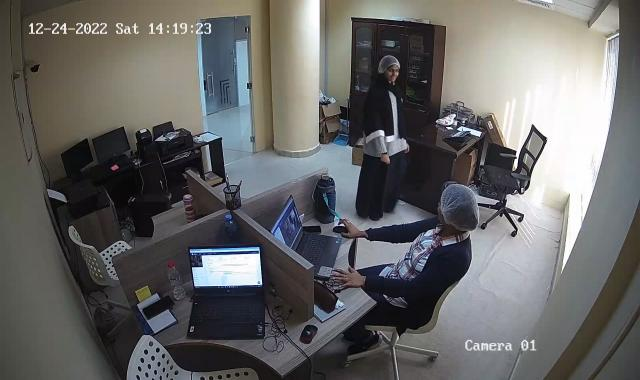hairnet: (441, 180, 483, 227), (378, 50, 400, 82)
